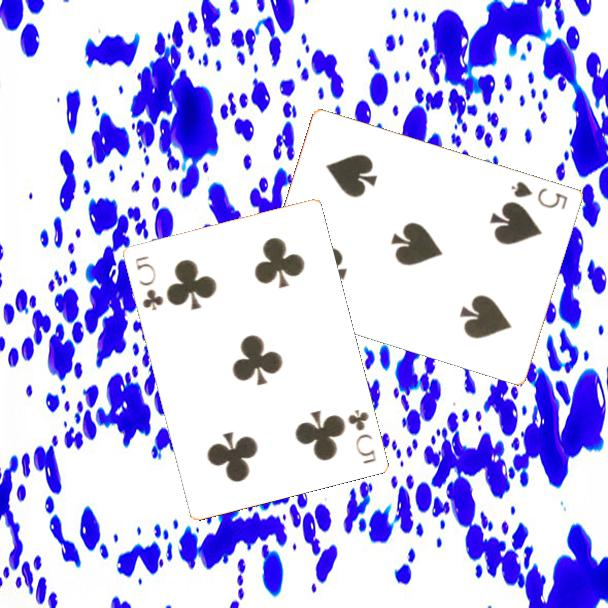c05: (131, 252, 166, 313), (344, 405, 379, 466)
s05: (508, 177, 571, 212)
